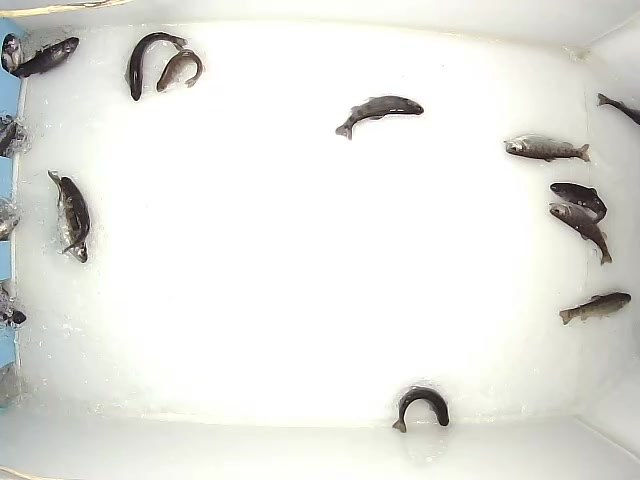fish: (122, 32, 189, 103), (548, 201, 614, 267), (334, 95, 425, 142), (47, 169, 88, 264), (6, 36, 80, 80), (502, 133, 591, 166), (390, 384, 449, 433), (558, 289, 632, 328), (549, 182, 608, 224), (59, 176, 89, 254), (155, 48, 203, 93)
